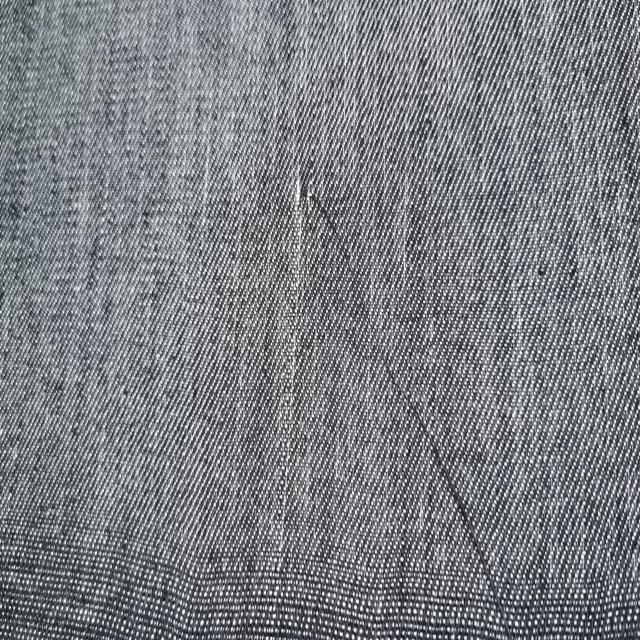defect: (296, 177, 516, 640)
